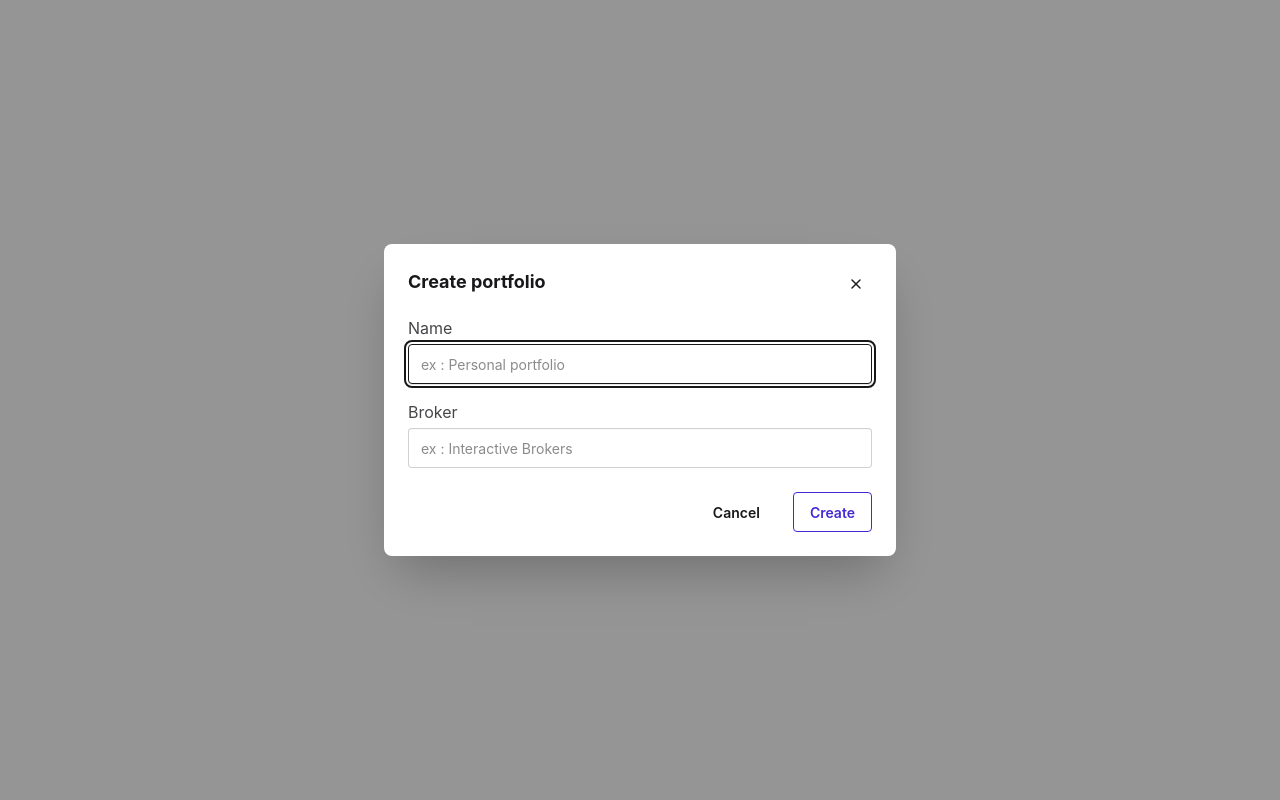
CreatePortfolioModal › shows validation error when submitting with empty name
The width and height of the screenshot is (1280, 800).
Click the button with test id "form-confirm-button" at (832, 512), box [793,492,872,532]
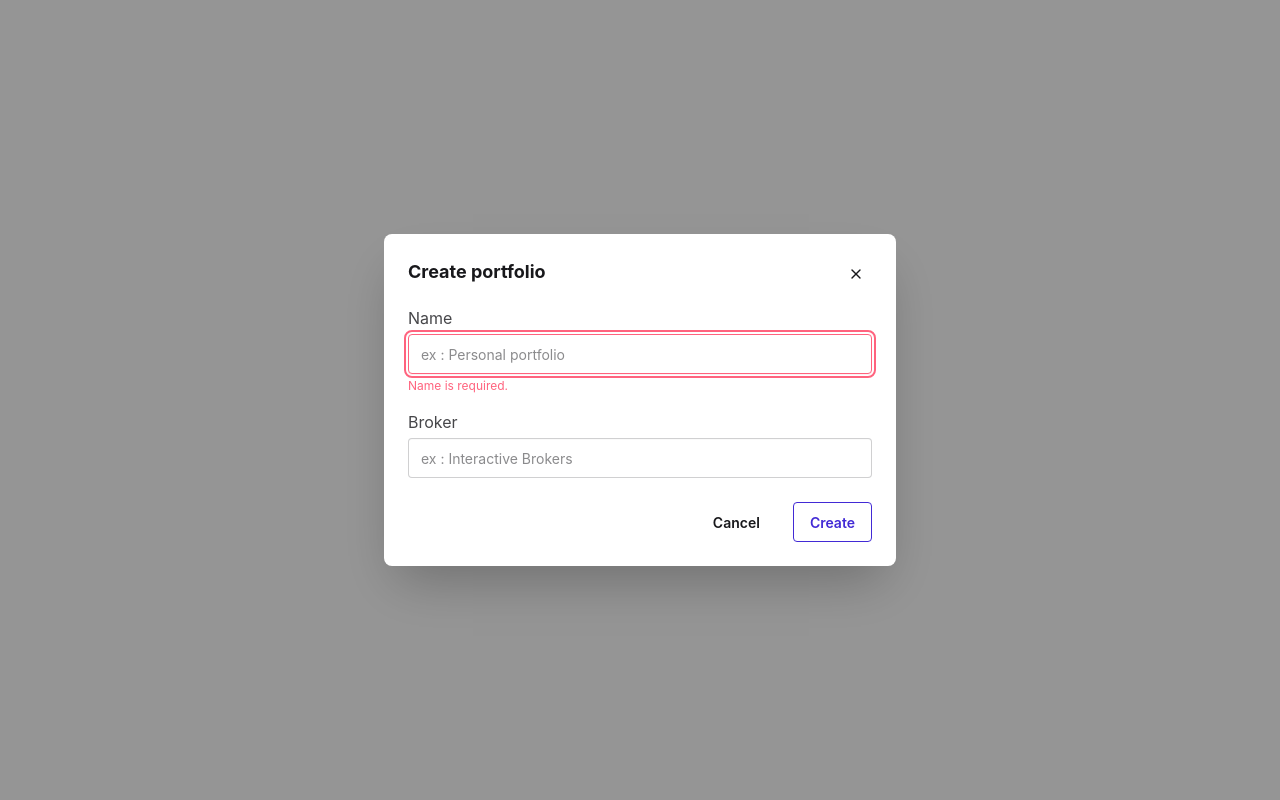
Check: the text with test id "portfolio-name-error" reads "Name is required.", box [408,378,508,393]
